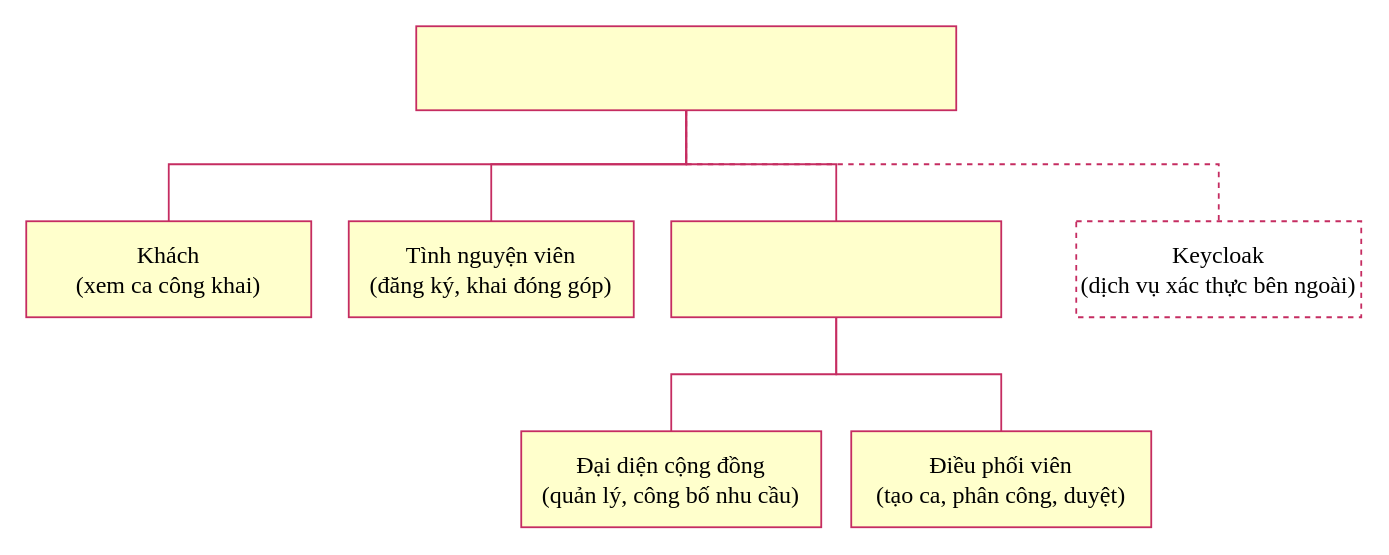
The diagram is 1389 pixels wide and 555 high, and some of its shapes have lost their labels. The shapes that lost their labels are listed below. From the top down, each one's box as (x1, y1, x2, y2) in pixels, then its label:
(415, 25, 956, 110): Nền tảng điều phối tình nguyện viên theo kỹ năng
(670, 220, 1001, 317): Tổ chức cộng đồng (sở hữu nhu cầu và ca làm)
